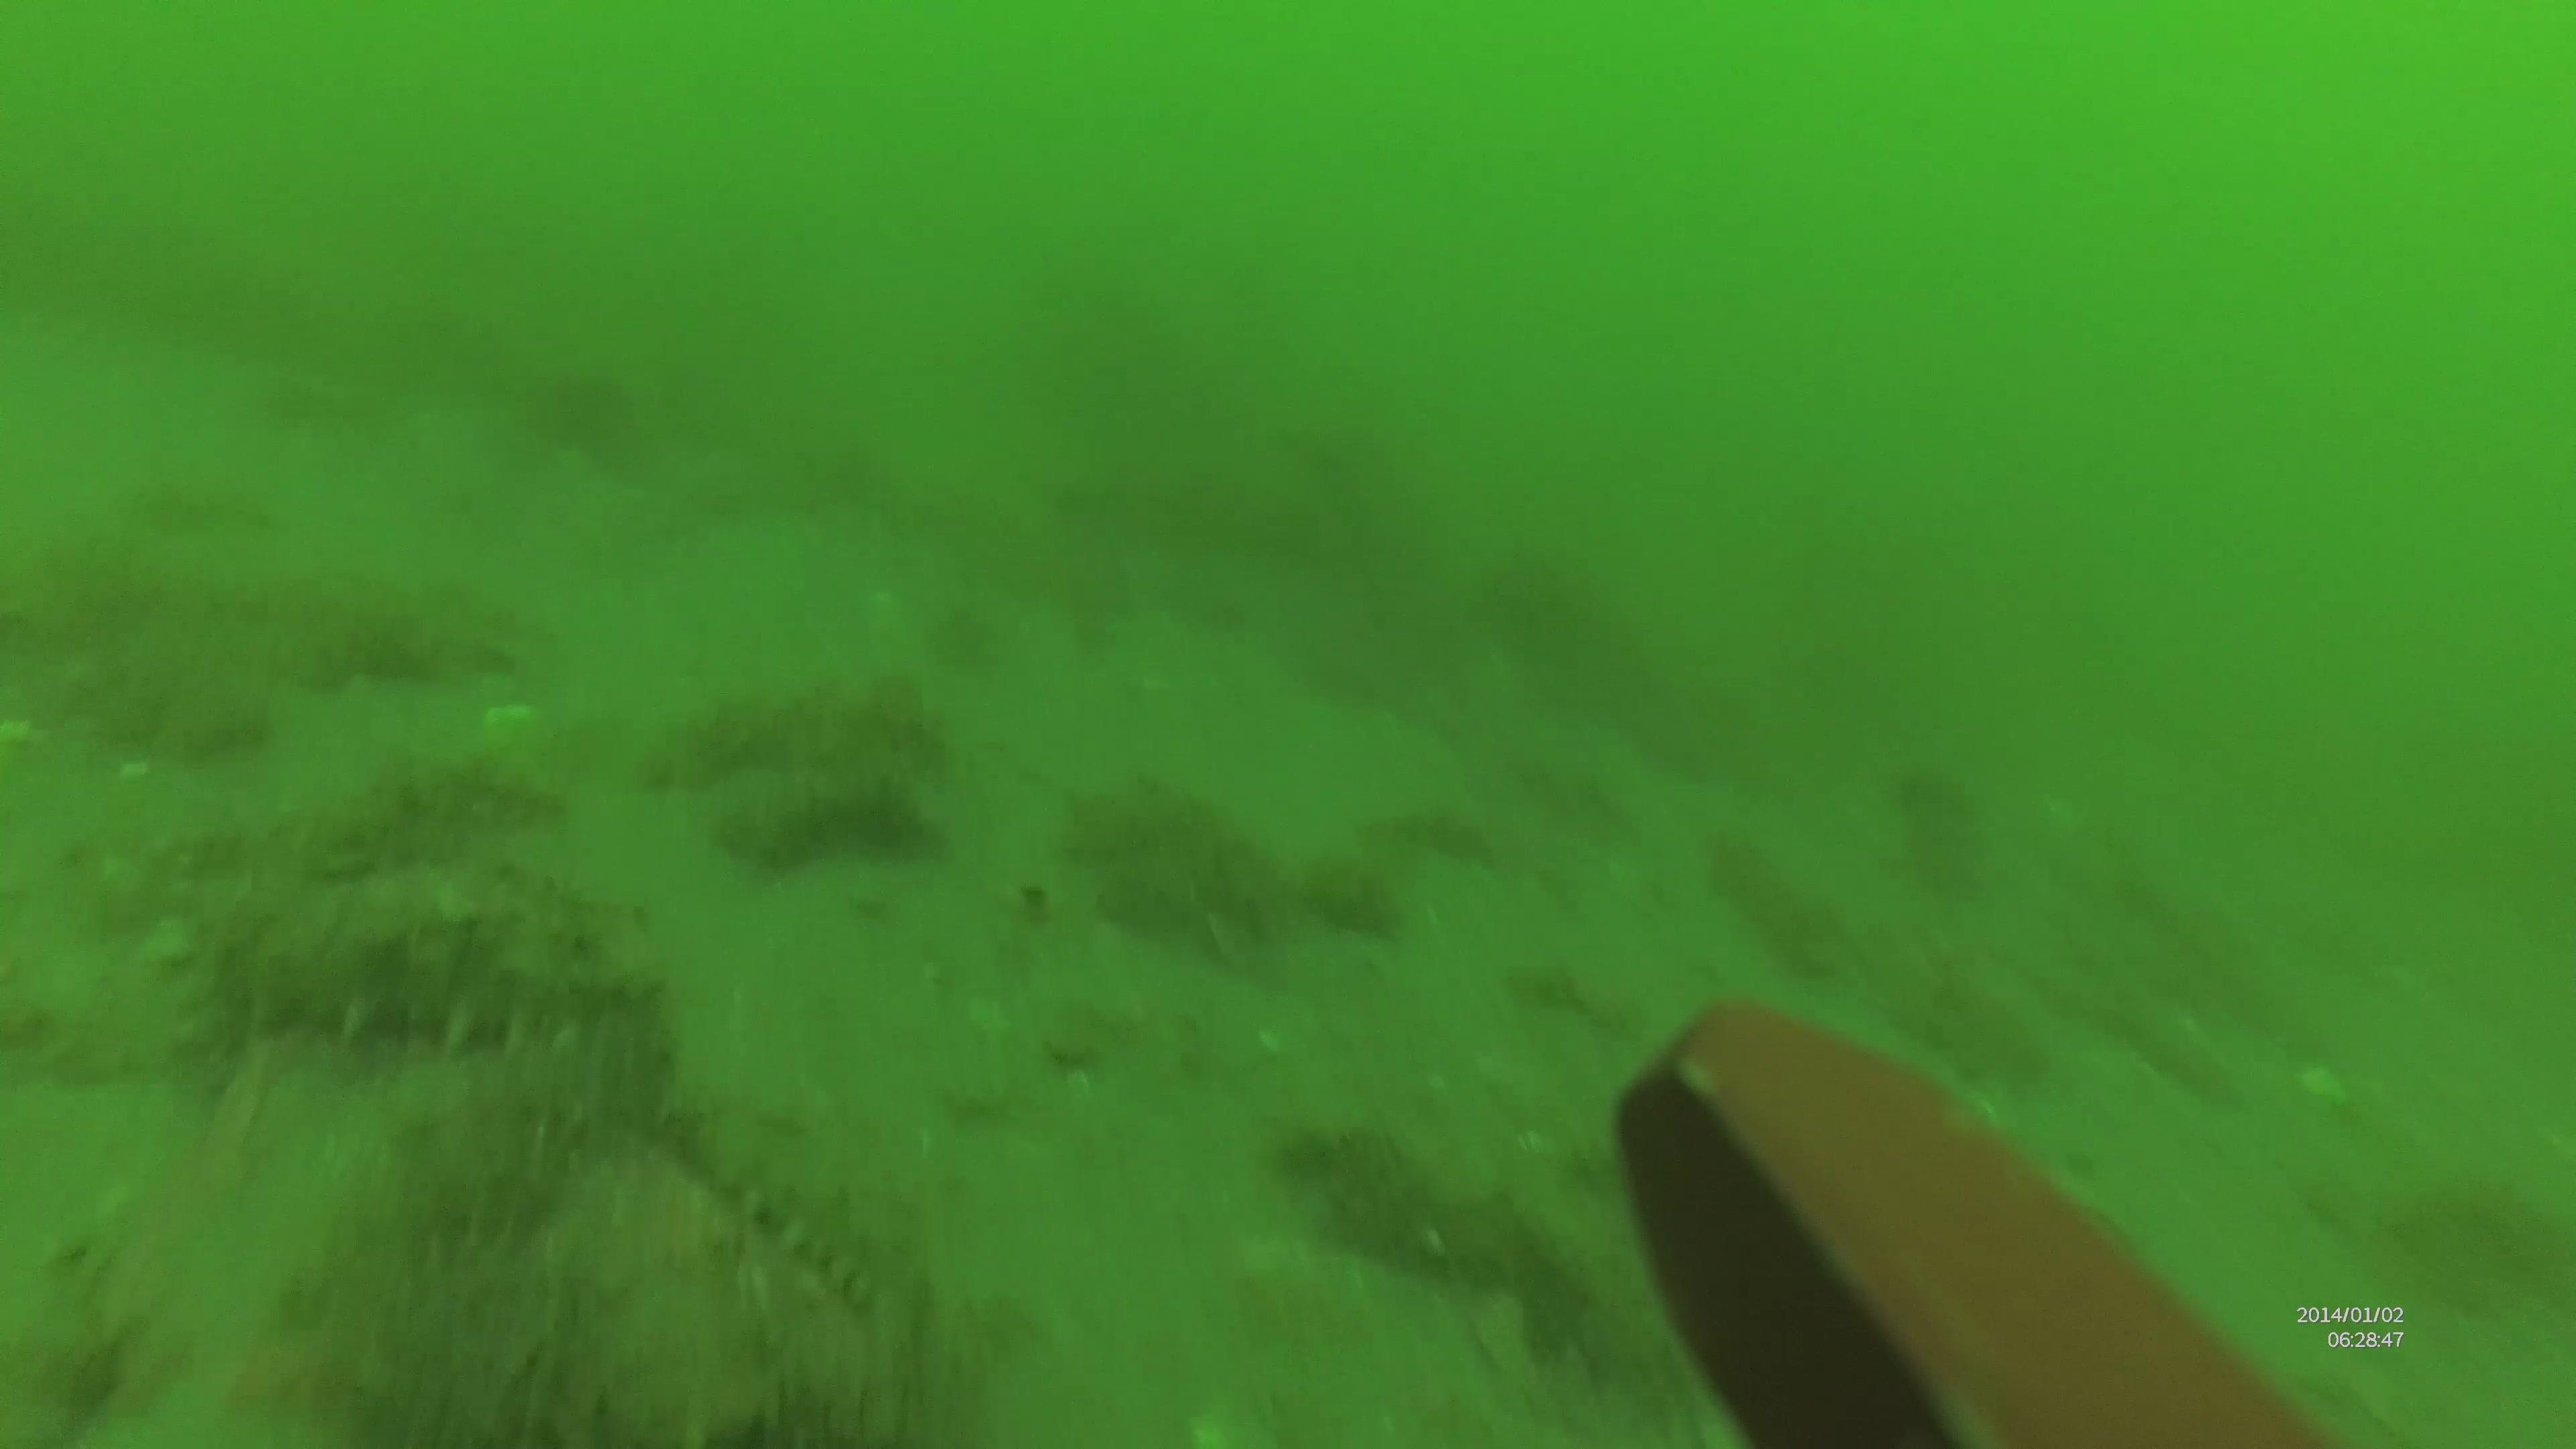holothurian: (257, 892, 663, 1049), (706, 1162, 899, 1323)
